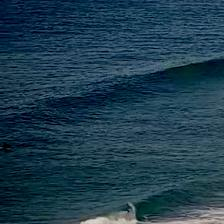surfer: (1, 144, 10, 149)
